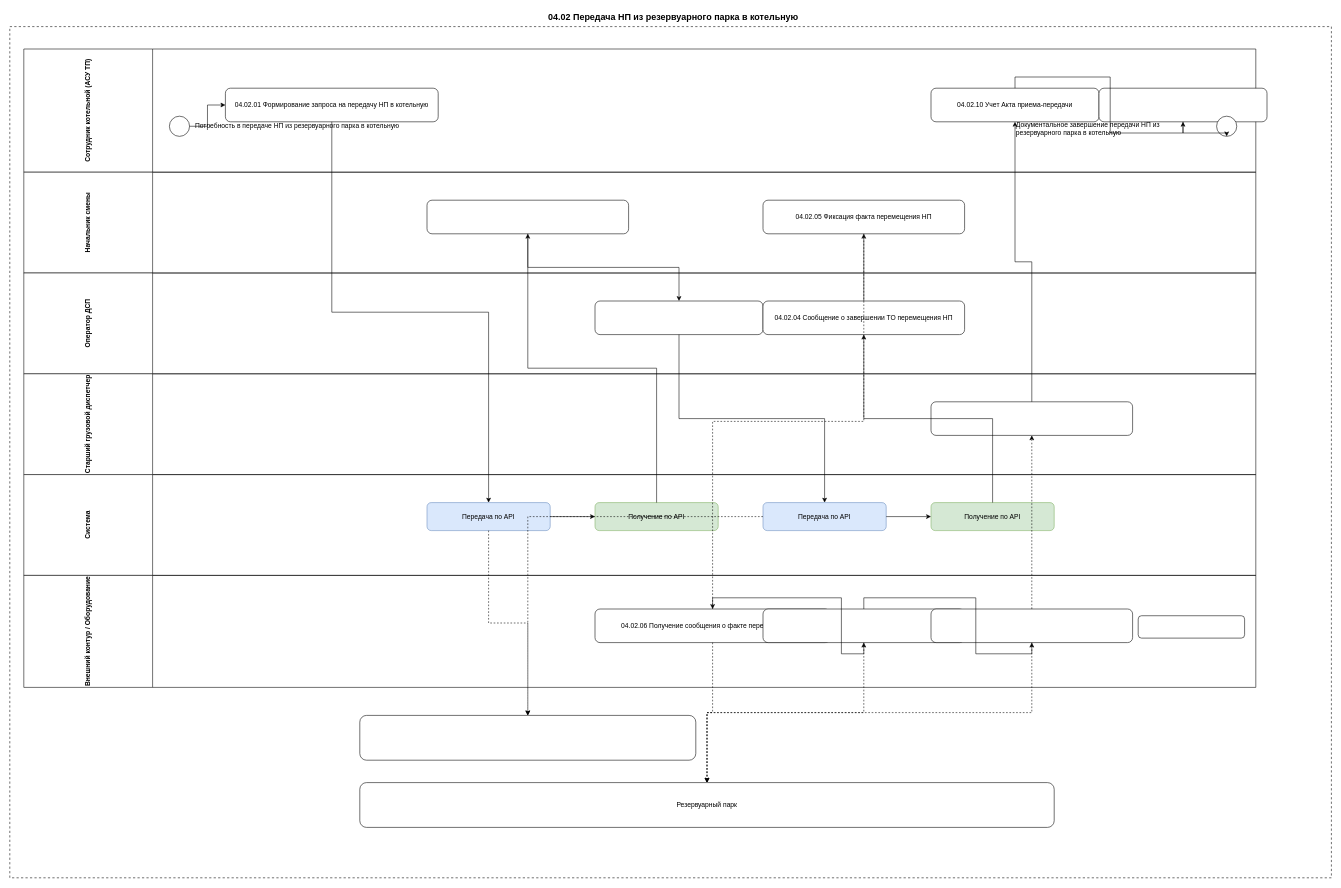
Some shapes in this 1341 by 888 pixel diagram are drawn without their labels. The shapes that lost their labels are listed below. From the top down, each one's centre as x and y in pixels, then its label:
At point 1182,105: "04.02.11 Закрытие запроса на передачу НП в котельную".
At point 527,217: "04.02.02 Согласование и команда на перемещение НП".
At point 678,317: "04.02.03 ТО перемещения".
At point 1031,418: "04.02.09 Оформление Акта приема-передачи".
At point 863,625: "04.02.07 Проверка уровня в резервуаре".
At point 1031,625: "04.02.08 Фиксация уровня в резервуаре".
At point 1191,626: "Подгрузка скана отчета / акта".
At point 527,737: "АСУ ТП".
